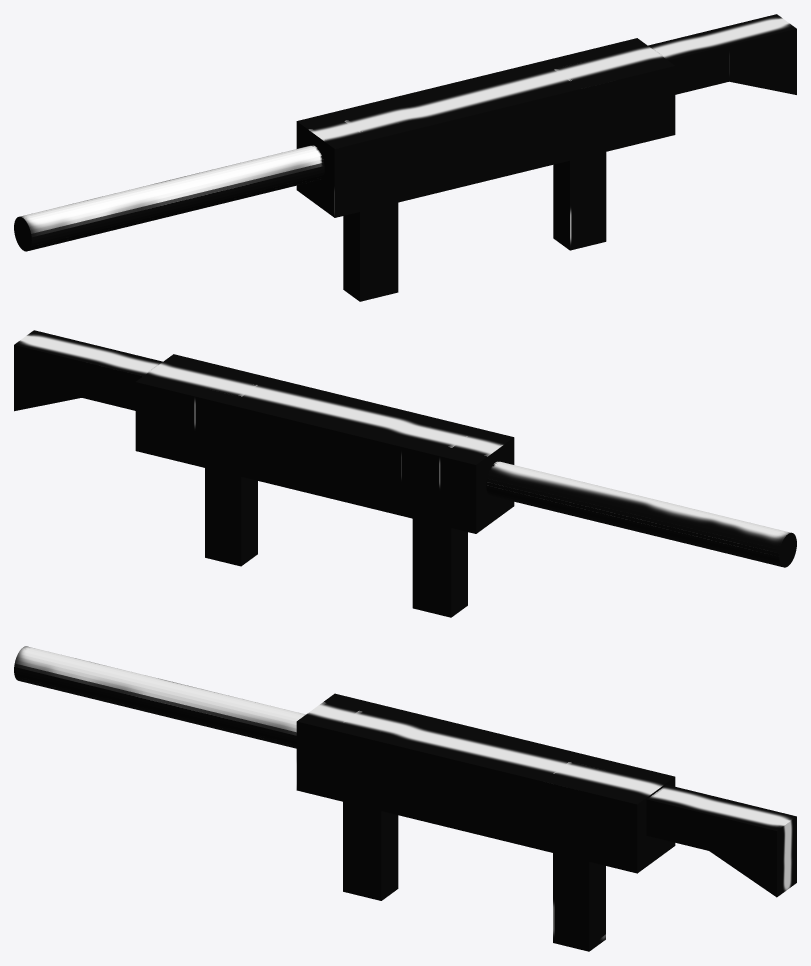
File: skunk_rifle.gltf
3 renders of one model, top to bottom at view 1: azimuth 30°, elevation 25°; view 2: azimuth 150°, elevation 25°; view 3: azimuth 330°, elevation 25°, orthographic.
Parts seen in each view (by area): view 1: skunk_rifle; view 2: skunk_rifle; view 3: skunk_rifle.
Part boxes in pixels (box(x1,y1,x2,y2)): skunk_rifle: box(14, 14, 796, 301); skunk_rifle: box(14, 330, 796, 617); skunk_rifle: box(14, 646, 796, 951).
Size of the model in its own units: 2.51 by 0.532 by 0.2169.
1 material, 1 textured.
